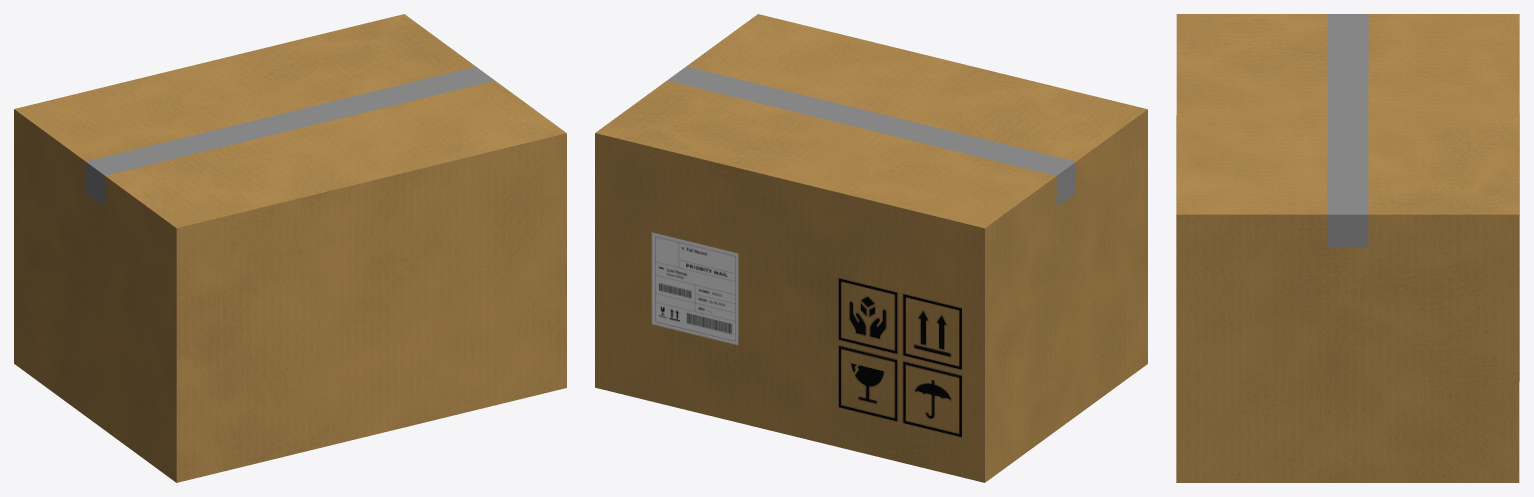
The model's file is cardboard-box.fbx.
3 renders of one model, left to right at view 1: azimuth 30°, elevation 25°; view 2: azimuth 150°, elevation 25°; view 3: azimuth 270°, elevation 25°, orthographic. The views are drawn at different scales.
Visible parts, largest first — view 1: box; view 2: box; view 3: box.
Part boxes in pixels (x1,y1,x2,y2): box: (14,14,566,482); box: (595,14,1147,482); box: (1176,14,1519,482).
Size of the model in its own units: 54.01 by 33.67 by 39.05.
